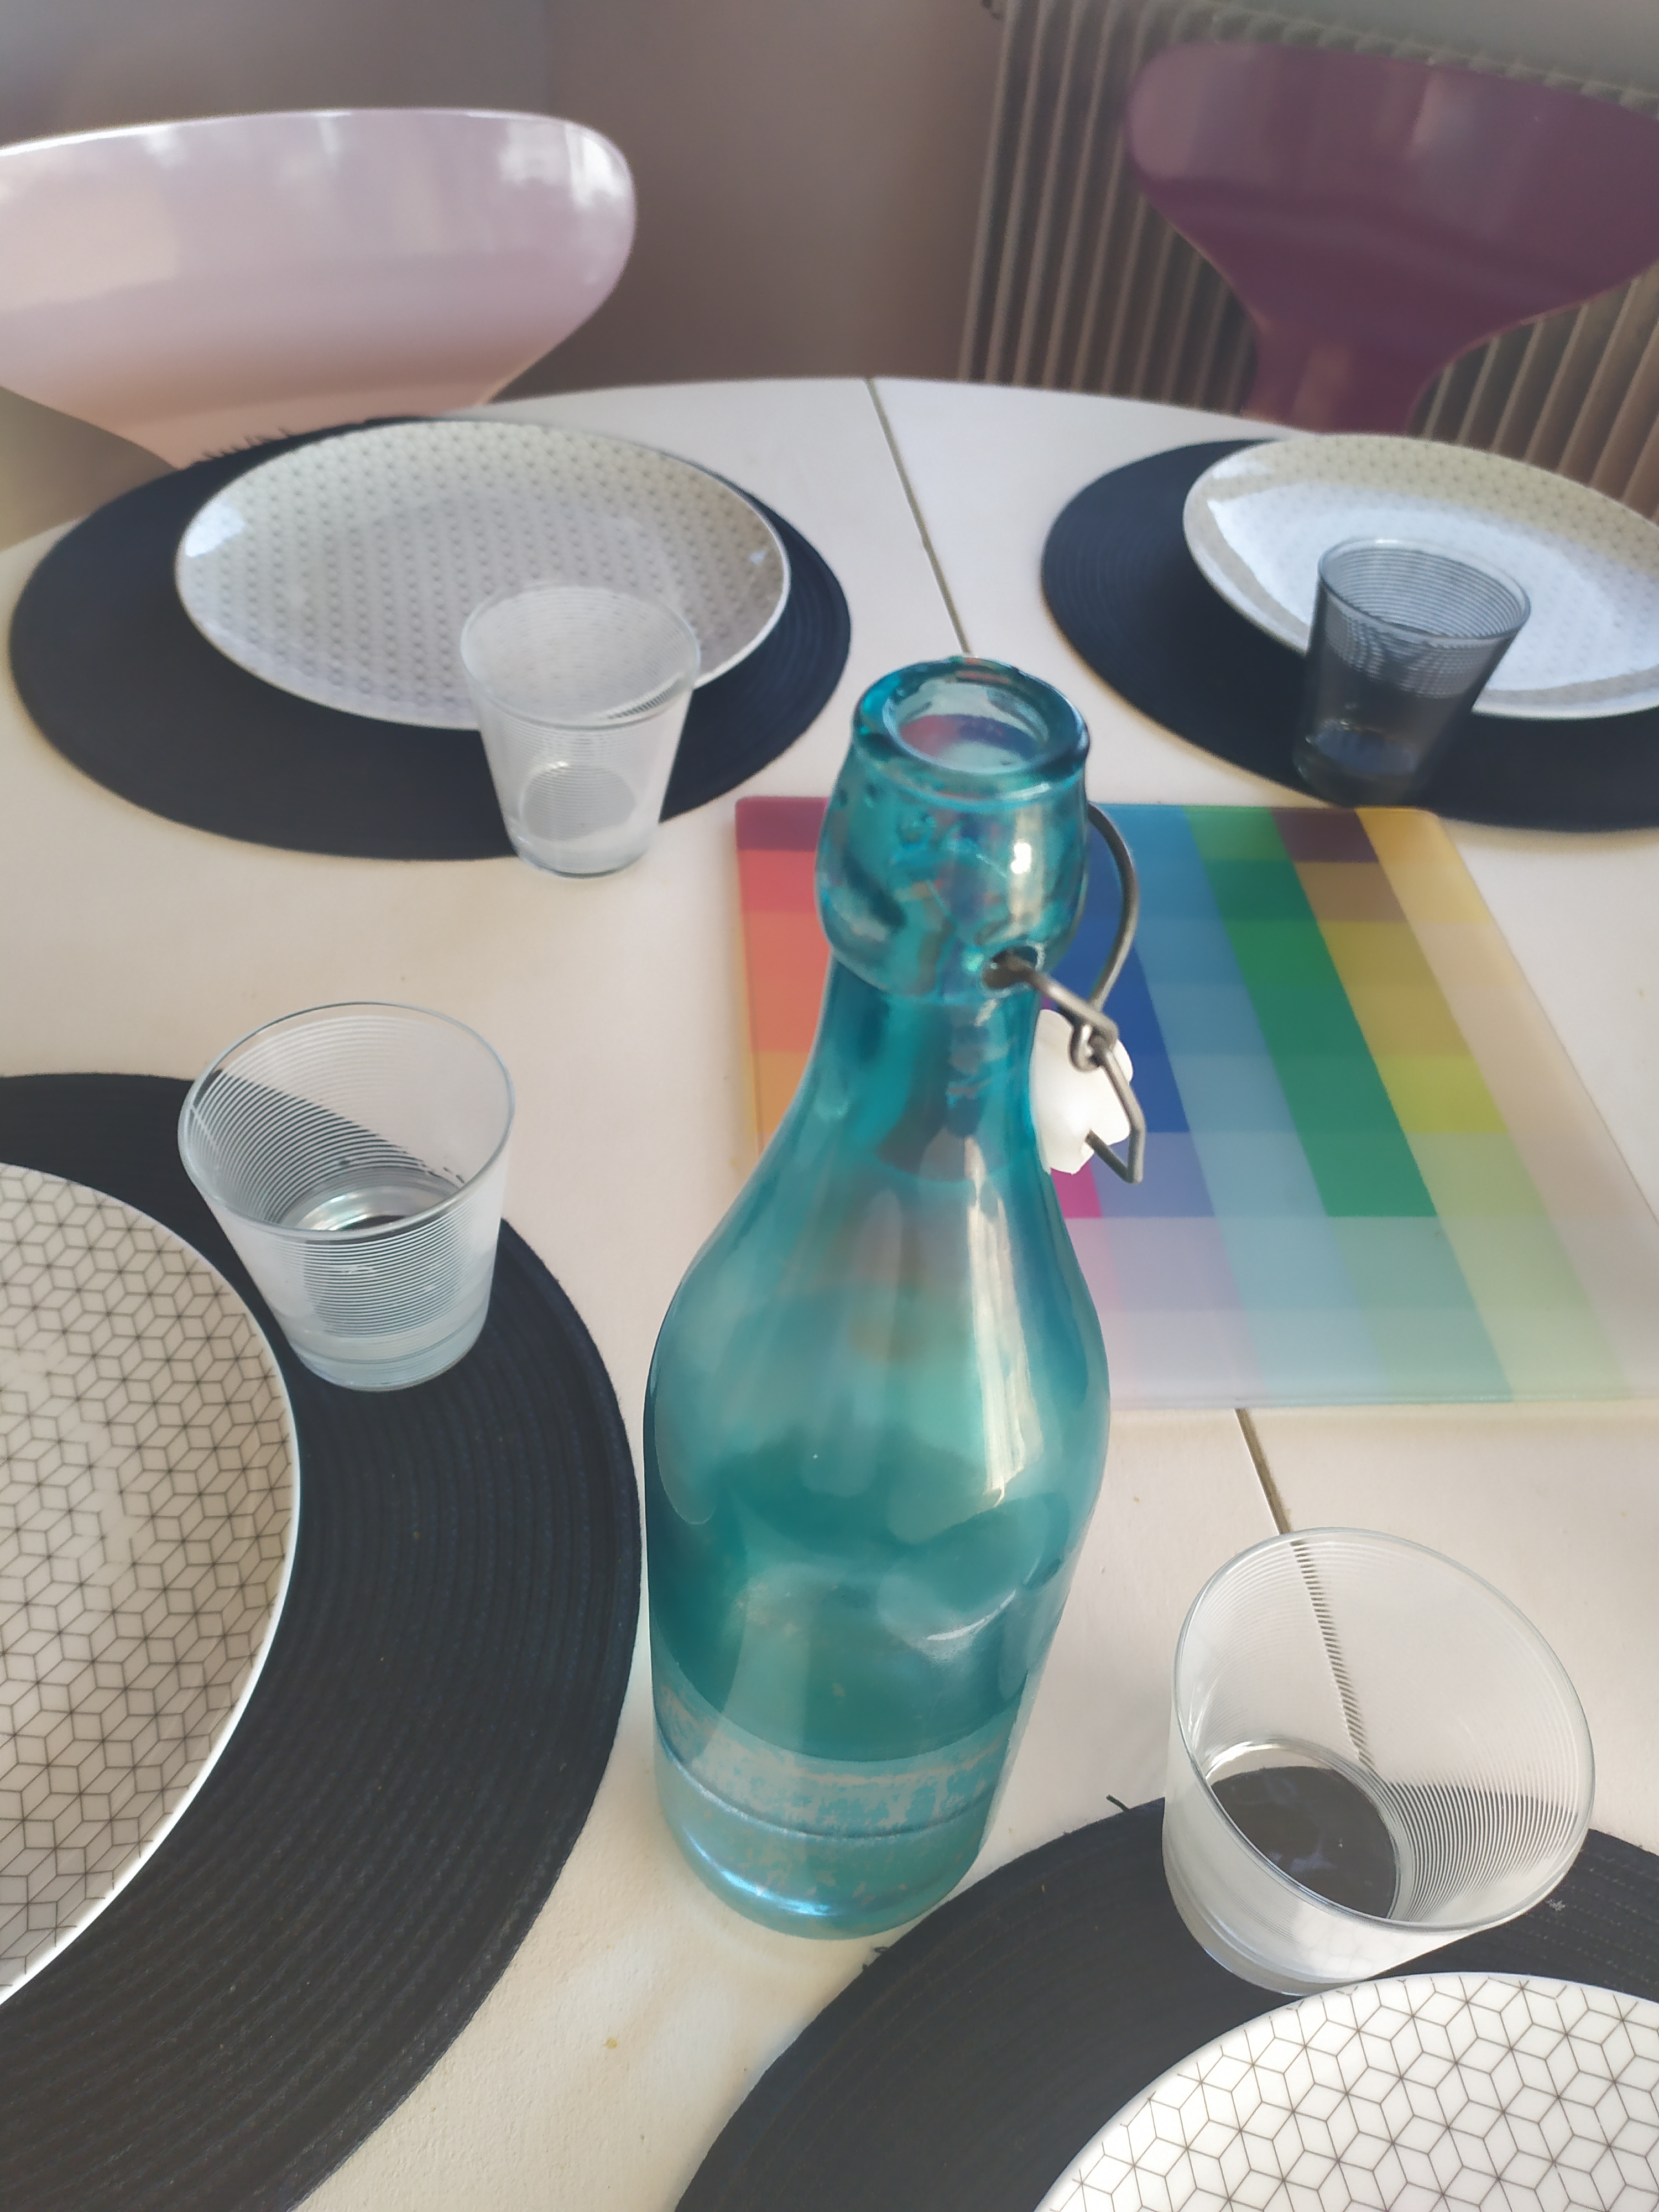bottle: (643, 664, 1147, 1946)
